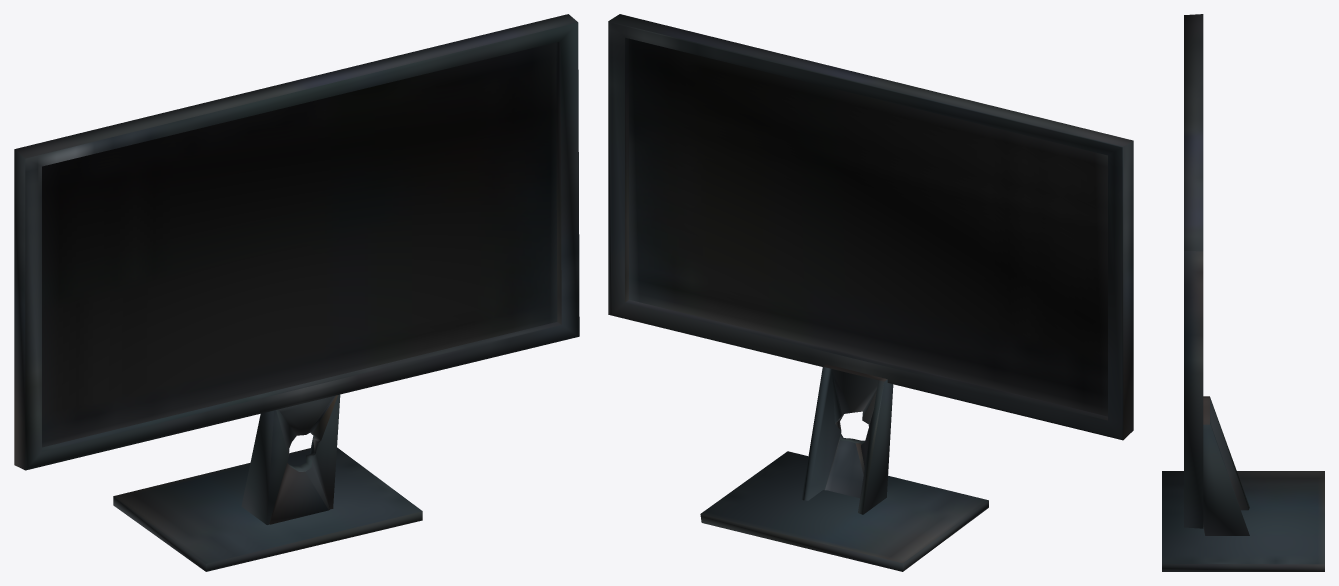
File: office-trading-monitor.glb
3 views of the same model, side by side, from view 1: azimuth 30°, elevation 25°; view 2: azimuth 150°, elevation 25°; view 3: azimuth 270°, elevation 25° (orthographic). The views are drawn at different scales.
Parts seen in each view (by area): view 1: trading-monitor; view 2: trading-monitor; view 3: trading-monitor.
Part boxes in pixels (<box>): trading-monitor: <box>14,14,579,571</box>; trading-monitor: <box>608,14,1133,571</box>; trading-monitor: <box>1162,14,1324,571</box>.
Size of the model in its own units: 0.62 by 0.4789 by 0.1796.
1 material, 1 textured.
